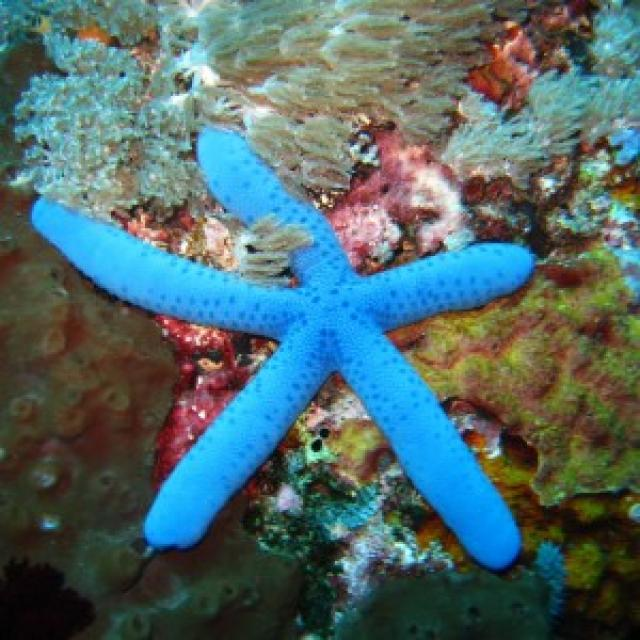Starfish: (19, 115, 536, 590)
